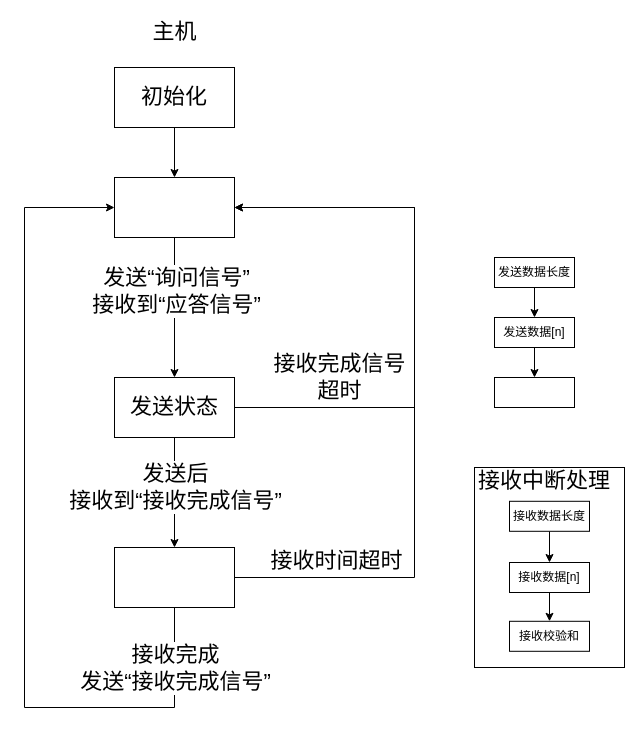
Image size: 642x733. Some labels were removed from this diagram. The box of each missing label's shape, as (x1, y1, x2, y2) in pixels:
发送校验和: (494, 376, 574, 408)
接收状态: (114, 546, 234, 608)
断开状态: (114, 176, 234, 238)
